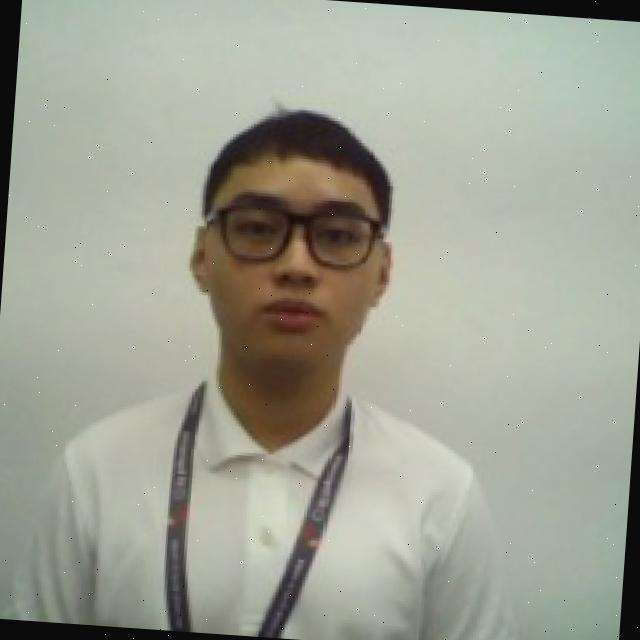no_gloves: (194, 96, 406, 234)
no_hairnet: (180, 224, 398, 380)
